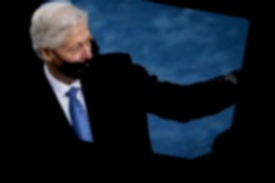mask_weared_incorrect: (42, 7, 95, 80)
